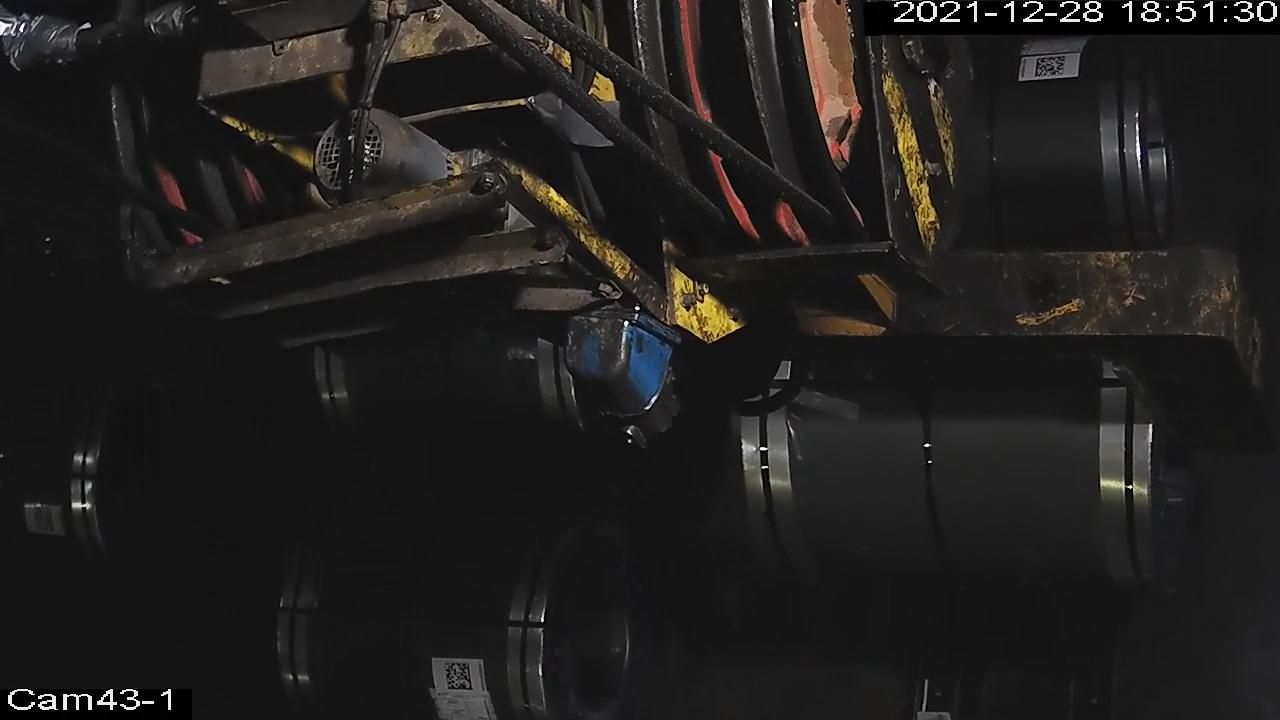data matrix: (442, 660, 475, 693), (1035, 54, 1068, 81)
